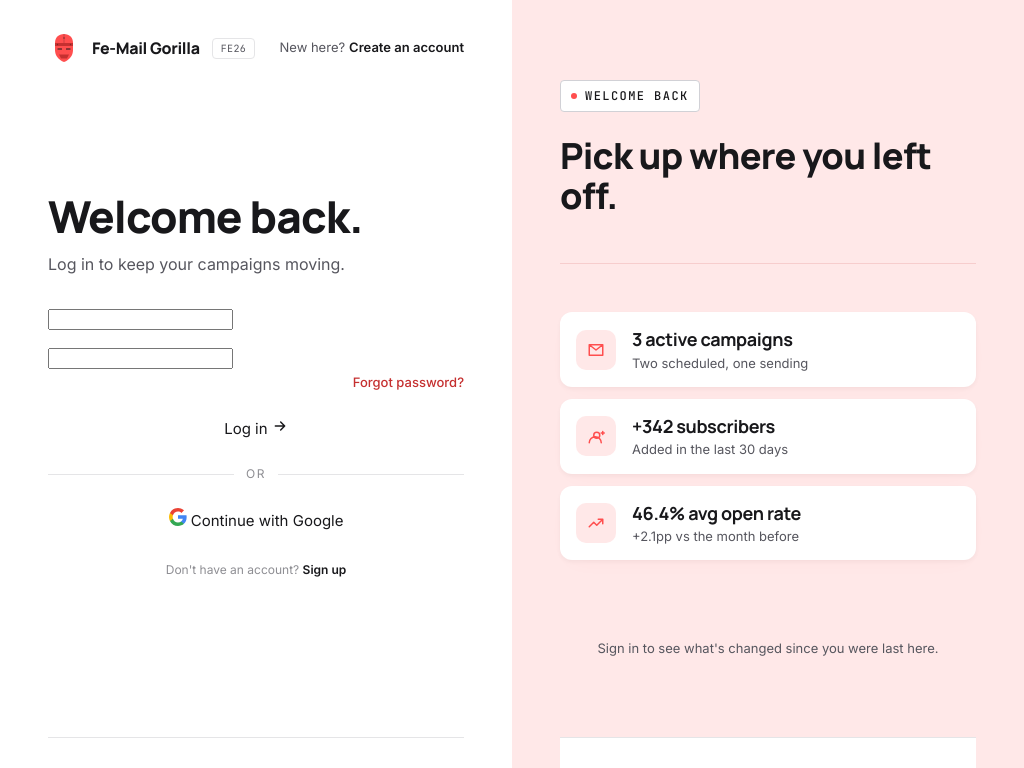
Scenario: login.vue › LOGIN-07: unknown error → message fallback
Type "user@example.com" into the field with id "email". click: (140, 320)
box: [48, 309, 233, 330]
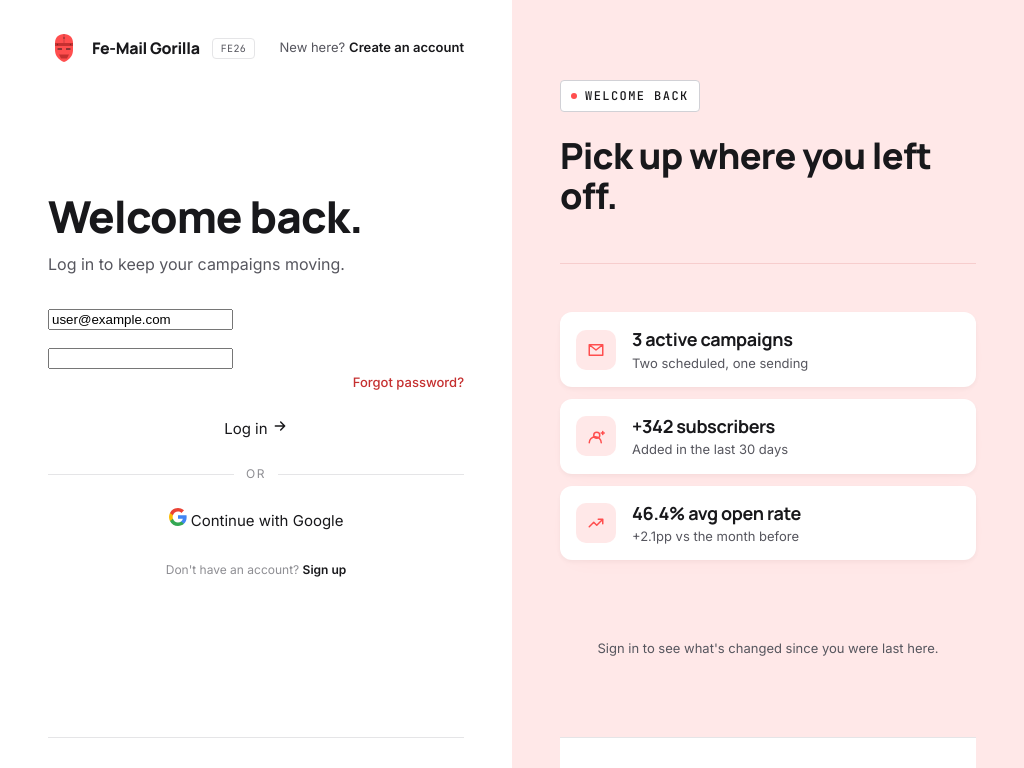
Type "pw" into the password field. click: (140, 358)
box: [48, 348, 233, 369]
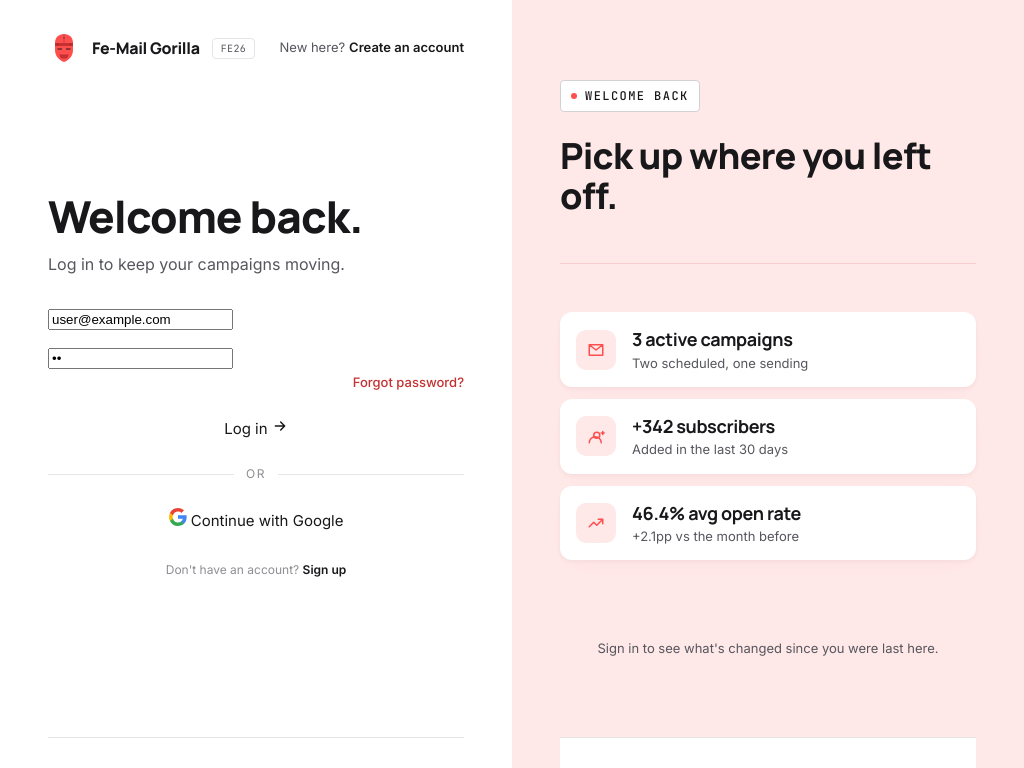
Submit the form, box [48, 308, 464, 577]
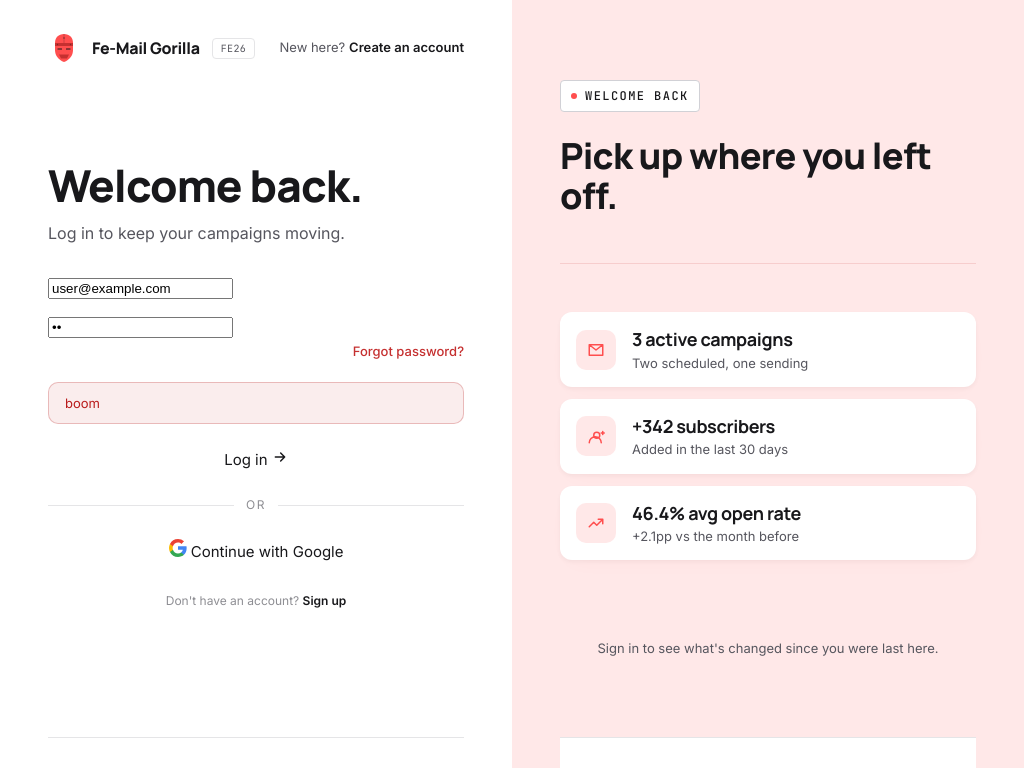
Check: the message with class "form-error" reads "boom", box [65, 395, 100, 411]
